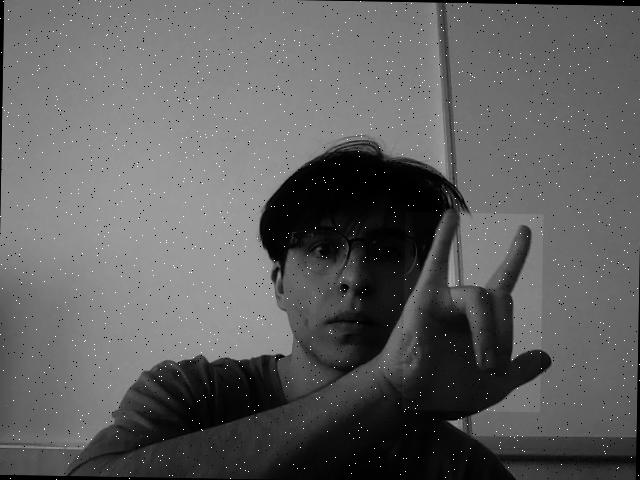I_Love_You: (402, 211, 544, 412)
